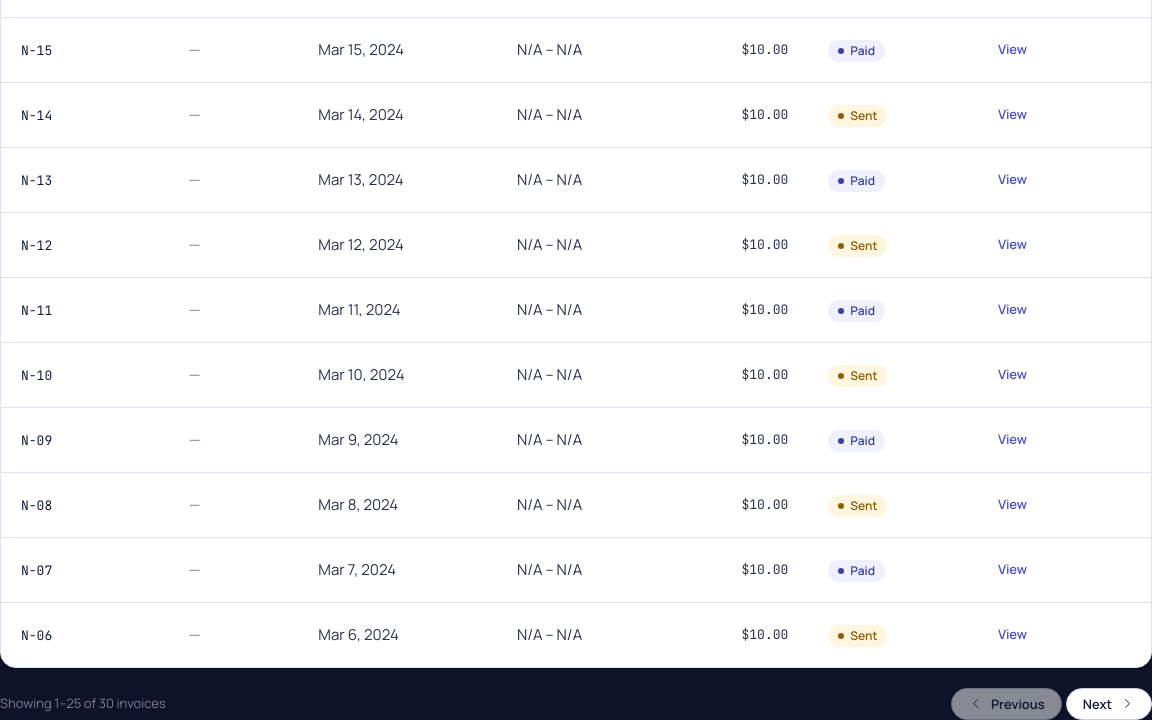
Test: Invoice List Page Integration › with more than one page of invoices › shows 25 invoices per page with Previous/Next
(page scrolled)
Expected: the text "Showing 1–25 of 30 invoices" is shown, [0,694,166,714]
Expected: the text "N-05" is not shown
Click the button with aria-label "Next page of invoices": (1109, 704) [1066,688,1151,719]
(page scrolled)
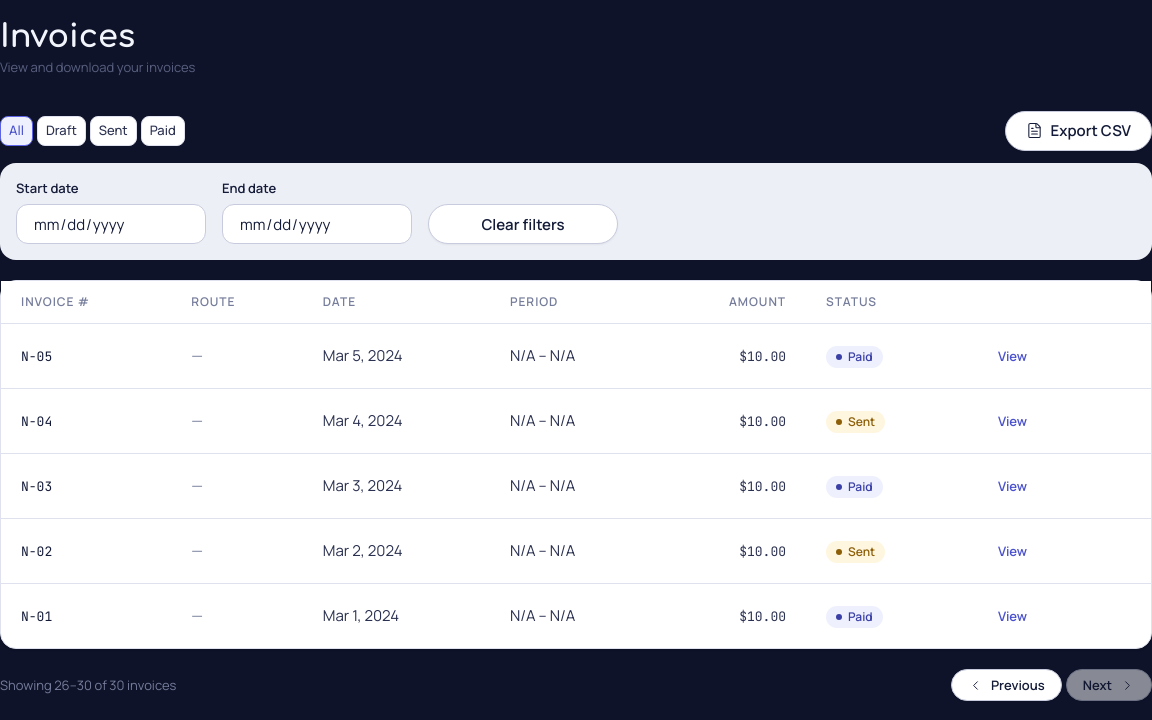
Result: the text "Showing 26–30 of 30 invoices" is shown at [0,676,176,695]
Result: the text "N-05" is shown at [21,348,52,365]
Result: the button with aria-label "Next page of invoices" is disabled at [1066,670,1151,702]
